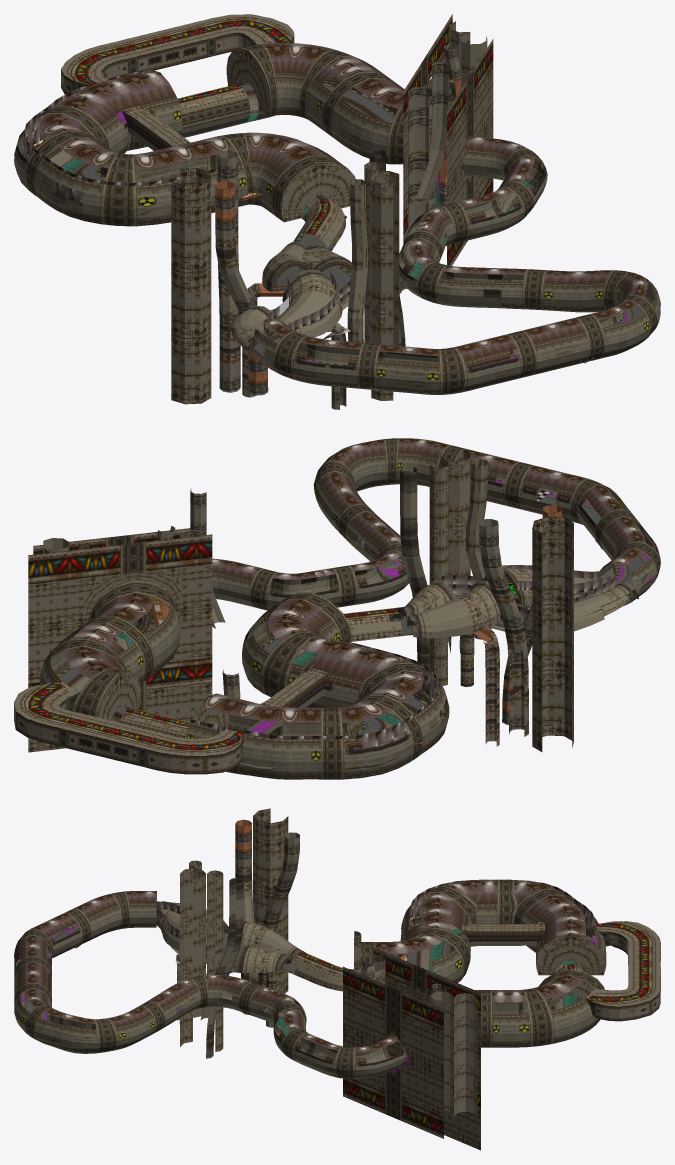
Rendered from sewer.glb.
3 renders of one model, top to bottom at view 1: azimuth 30°, elevation 25°; view 2: azimuth 150°, elevation 25°; view 3: azimuth 270°, elevation 25°, orthographic. The views are drawn at different scales.
Visible parts, largest first — view 1: piece_01AD, piece_00C2, piece_06A0, piece_04BE, piece_000A, piece_020A, piece_02BA, piece_00A0, piece_00A2; view 2: piece_01AD, piece_00C2, piece_06A0, piece_04BE, piece_000A, piece_020A, piece_00A2, piece_00A0, piece_02BA; view 3: piece_00C2, piece_01AD, piece_06A0, piece_04BE, piece_000A, piece_00A0, piece_020A, piece_02BA, piece_00A2.
Boxes of the visible parts, x1,y1,x2,y2 form: piece_01AD: [171, 149, 405, 409]; piece_00C2: [311, 14, 547, 294]; piece_06A0: [14, 69, 217, 226]; piece_04BE: [61, 14, 385, 137]; piece_000A: [424, 271, 660, 394]; piece_020A: [187, 132, 355, 249]; piece_02BA: [250, 319, 439, 394]; piece_00A0: [400, 247, 633, 312]; piece_00A2: [399, 188, 523, 281]; piece_01AD: [385, 449, 638, 751]; piece_00C2: [28, 488, 240, 752]; piece_06A0: [182, 640, 449, 779]; piece_04BE: [14, 631, 234, 774]; piece_000A: [323, 438, 616, 524]; piece_020A: [242, 592, 391, 707]; piece_00A2: [212, 558, 400, 610]; piece_00A0: [313, 460, 409, 592]; piece_02BA: [581, 485, 660, 605]; piece_00C2: [281, 931, 508, 1150]; piece_01AD: [155, 808, 309, 1058]; piece_06A0: [400, 879, 625, 996]; piece_04BE: [492, 921, 660, 1047]; piece_000A: [14, 929, 115, 1053]; piece_00A0: [94, 975, 235, 1051]; piece_020A: [294, 920, 470, 991]; piece_02BA: [28, 891, 156, 957]; piece_00A2: [221, 975, 306, 1053].
Size of what is drawn, in the model's own units: 18713 by 9667 by 30476.
89 materials, 88 textured.
